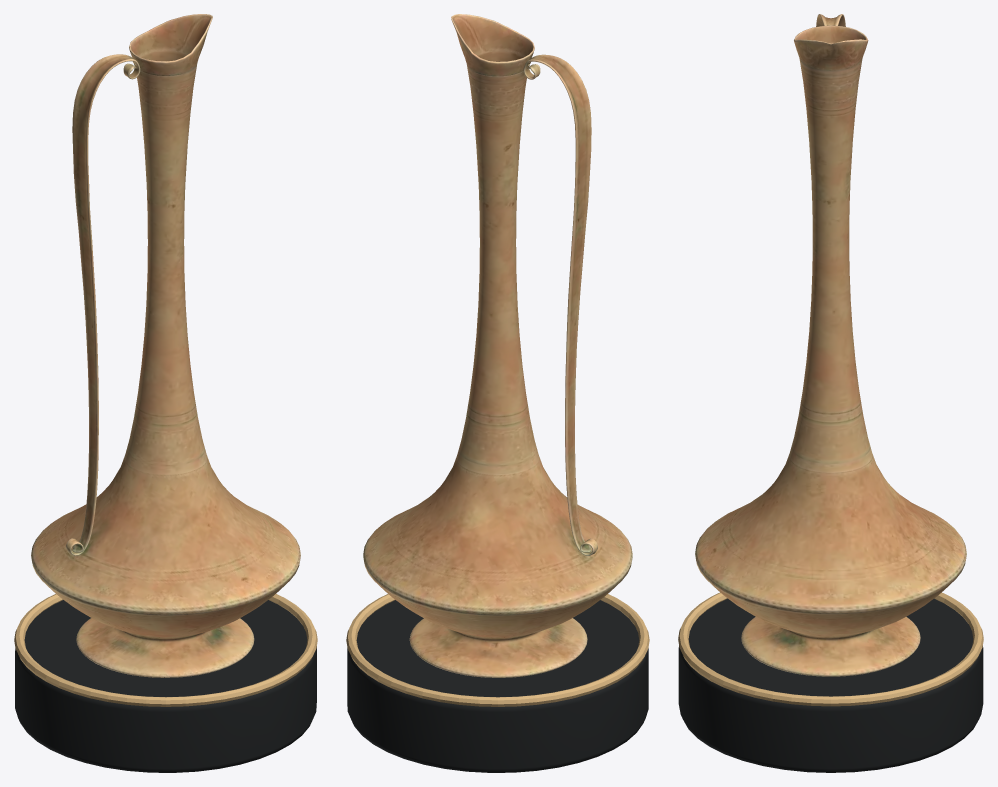
The model's file is hp_room_cc0_brass_vase_02.glb.
3 renders of one model, left to right at view 1: azimuth 30°, elevation 25°; view 2: azimuth 150°, elevation 25°; view 3: azimuth 270°, elevation 25°, orthographic.
Visible parts, largest first — view 1: brass_vase_02, hp_museum_low_black_plinth, hp_museum_plinth_brass_lip; view 2: brass_vase_02, hp_museum_low_black_plinth, hp_museum_plinth_brass_lip; view 3: brass_vase_02, hp_museum_low_black_plinth, hp_museum_plinth_brass_lip.
Part boxes in pixels (box(x1,y1,x2,y2)): brass_vase_02: box(31, 14, 300, 677); hp_museum_low_black_plinth: box(15, 600, 316, 772); hp_museum_plinth_brass_lip: box(14, 594, 317, 706); brass_vase_02: box(363, 14, 632, 677); hp_museum_low_black_plinth: box(347, 600, 648, 772); hp_museum_plinth_brass_lip: box(346, 594, 649, 706); brass_vase_02: box(695, 14, 966, 676); hp_museum_low_black_plinth: box(678, 598, 983, 772); hp_museum_plinth_brass_lip: box(678, 592, 983, 706).
Bounding box in the file's own units: 0.4653 × 1.16 × 0.4653.
3 materials, 1 textured.
